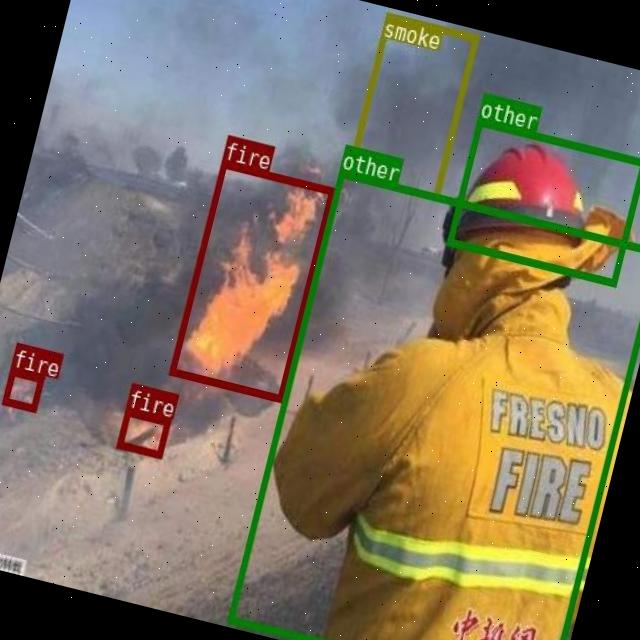fire: (168, 158, 335, 400), (115, 407, 171, 458), (1, 366, 44, 411)
smoke: (345, 10, 478, 198)
